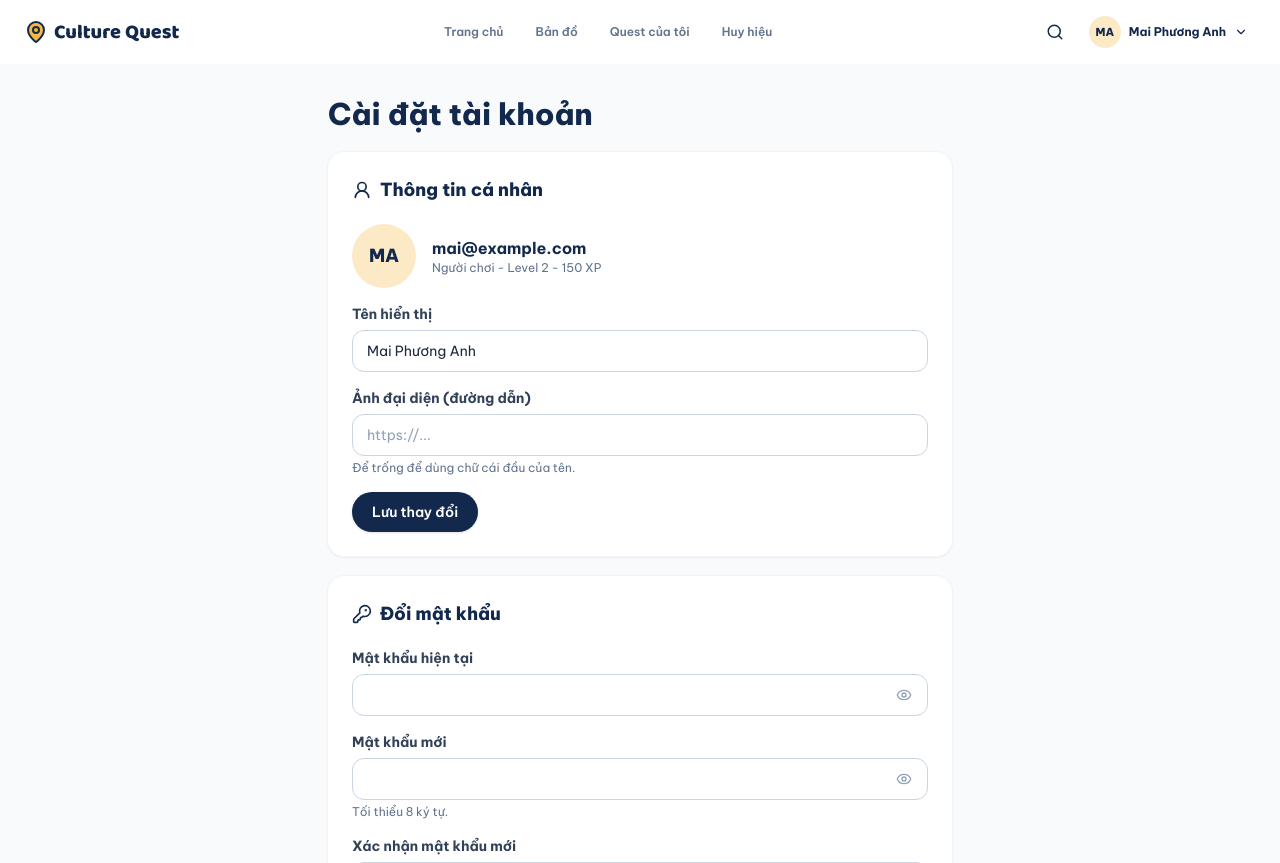
it: AccountPage › shows an error when saving fails
Click the button "Lưu thay đổi" at (415, 512), box [352, 492, 478, 532]
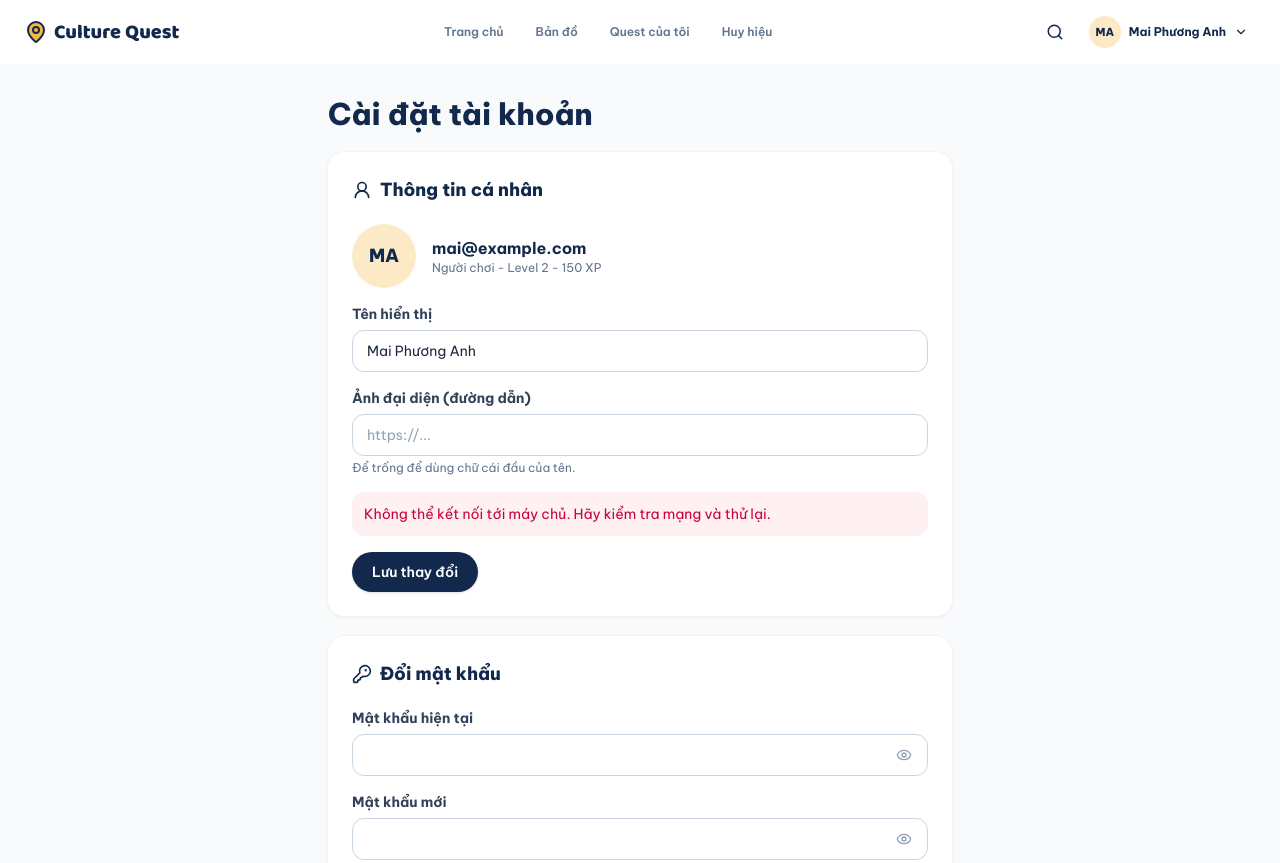
Expected: the message "Không thể kết nối tới máy chủ. Hãy kiểm tra mạng và thử lại." is shown, [352, 492, 928, 536]
